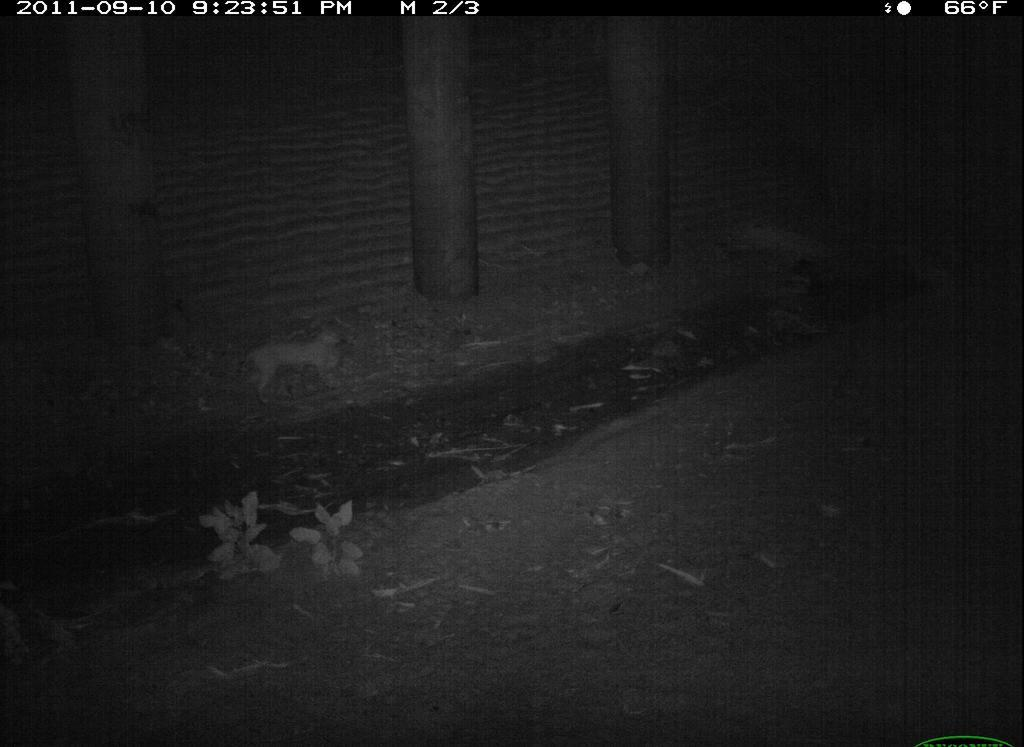bobcat: (474, 635, 698, 747)
